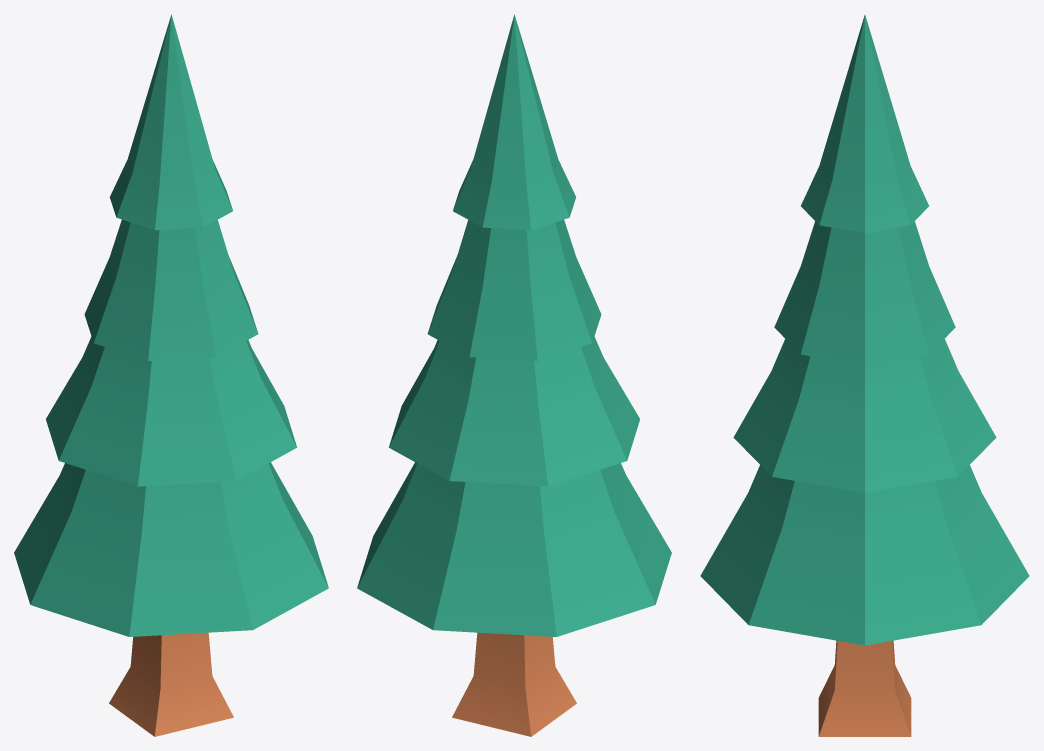
File: tree.obj
3 renders of one model, left to right at view 1: azimuth 30°, elevation 25°; view 2: azimuth 150°, elevation 25°; view 3: azimuth 270°, elevation 25°, orthographic.
Parts seen in each view (by area): view 1: tree; view 2: tree; view 3: tree.
Part boxes in pixels (left/top/right/bottom): tree: left=14, top=14, right=328, bottom=736; tree: left=357, top=14, right=671, bottom=736; tree: left=700, top=15, right=1029, bottom=736.
Bounding box in the file's own units: 1.02 × 2.41 × 1.02.
